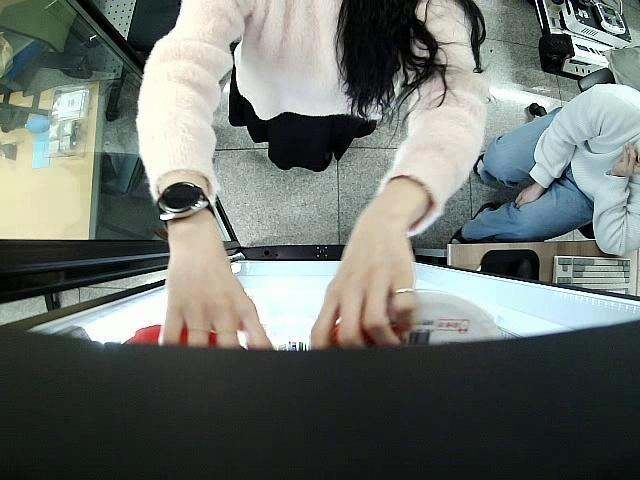10_wangTtukkeong: (317, 289, 502, 348), (118, 326, 247, 353)
